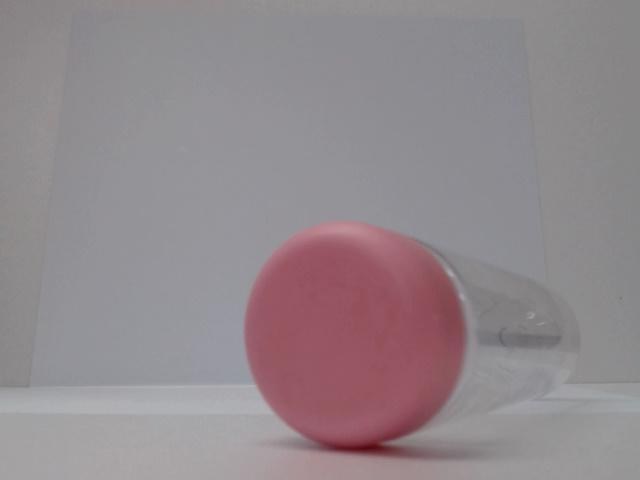bottle: (215, 225, 592, 446)
